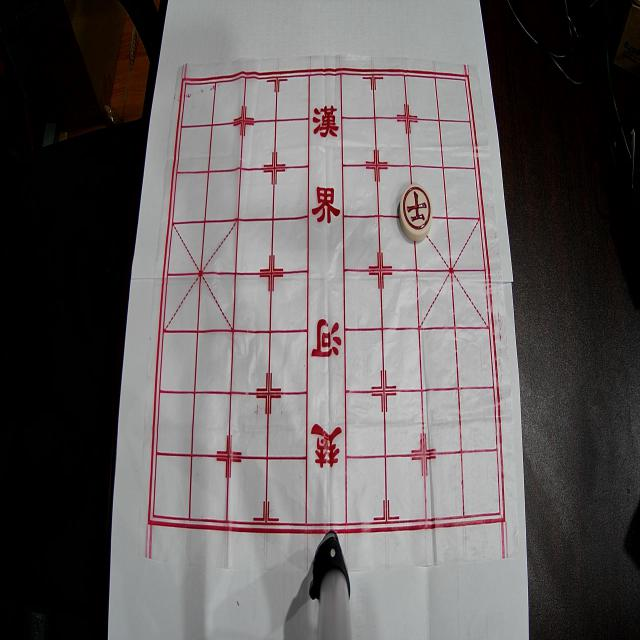red-guard: (400, 183, 432, 241)
